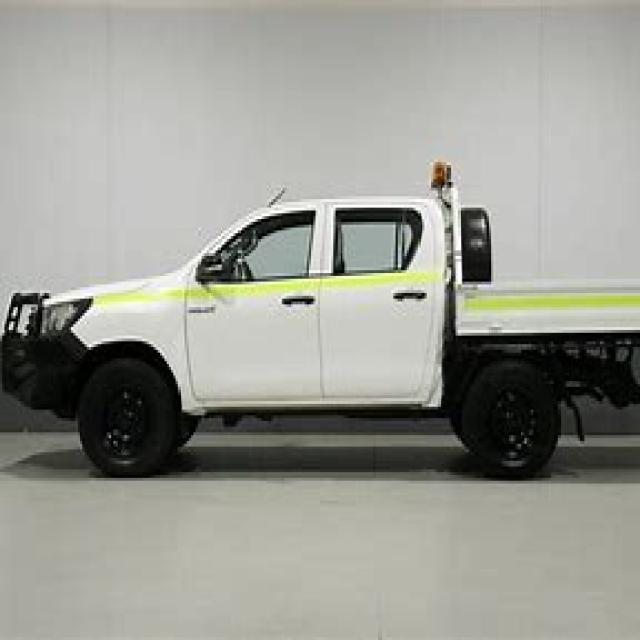light_vehicle: (2, 171, 638, 484)
